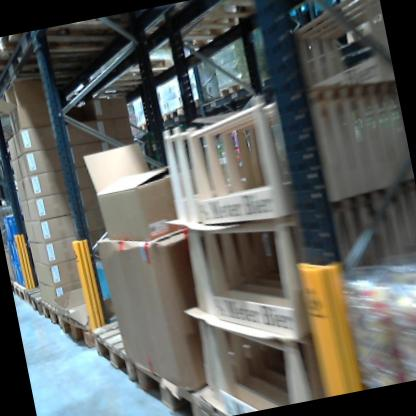pallet: (127, 342, 248, 416), (0, 17, 128, 72), (0, 42, 115, 95), (92, 317, 152, 396), (35, 274, 106, 340), (331, 4, 388, 62), (56, 295, 109, 357), (13, 277, 78, 322), (215, 70, 256, 101), (157, 101, 189, 127), (182, 94, 209, 114)
